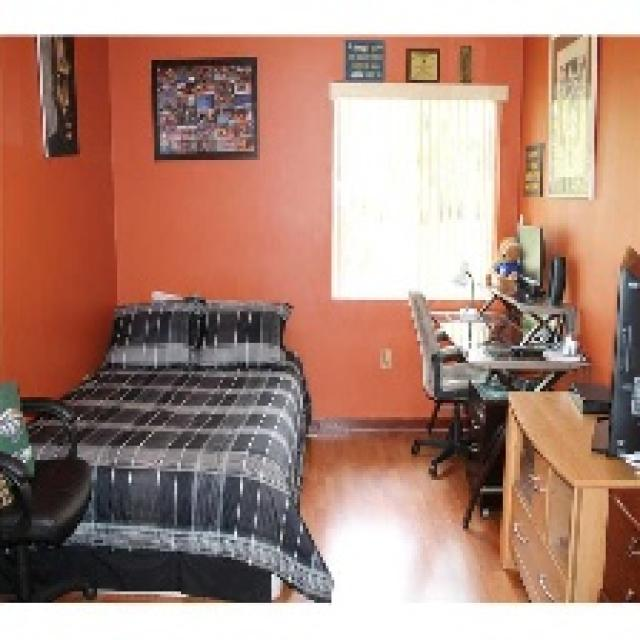Bed: (11, 294, 332, 603)
